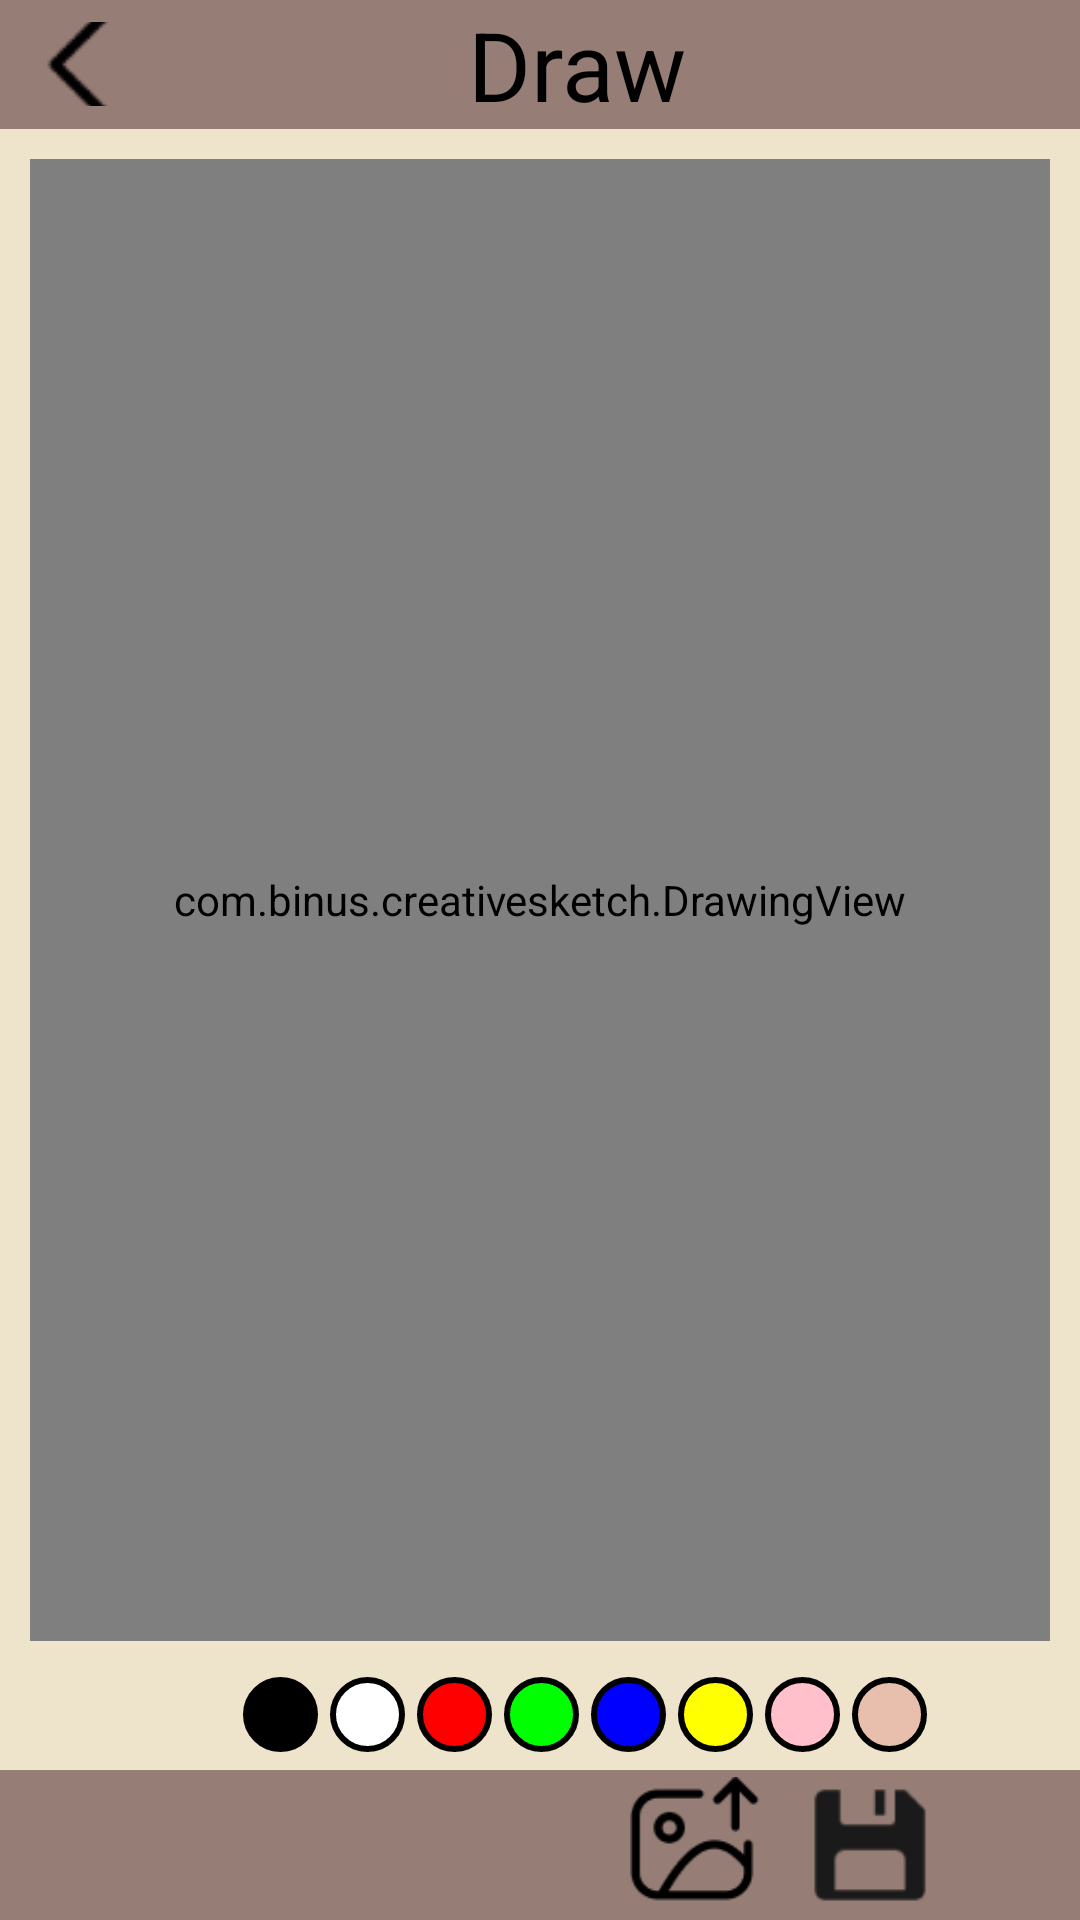

Where icons sit on this 1080*1920 app screen, as (x1, y1, x2, y2):
back: (48, 22, 107, 106)
pallet: (243, 1677, 318, 1752), (330, 1677, 405, 1752), (417, 1677, 492, 1752), (504, 1677, 579, 1752), (591, 1677, 666, 1752), (678, 1677, 753, 1752), (765, 1677, 840, 1752)
pallet skin: (852, 1677, 927, 1752)
save: (814, 1789, 926, 1901)
upload: (630, 1777, 759, 1901)
